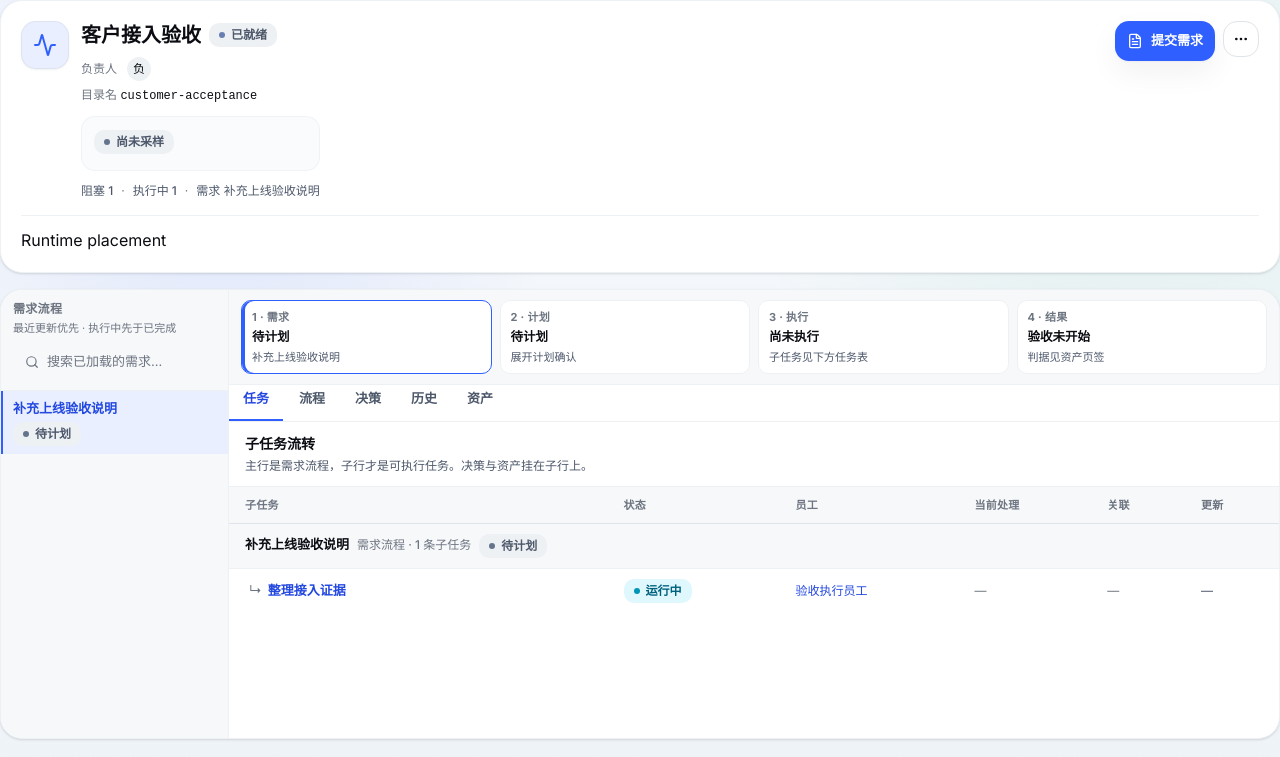
ProjectOperationalDetail › renders section nav with tasks default and navigable project context
The image size is (1280, 757).
Expected: the tab "任务" is shown, [229, 385, 283, 420]
Expected: the tab "流程" is shown, [285, 385, 339, 420]
Click the button named "负责人 负责人甲".
click(139, 69)  # box [125, 55, 153, 83]
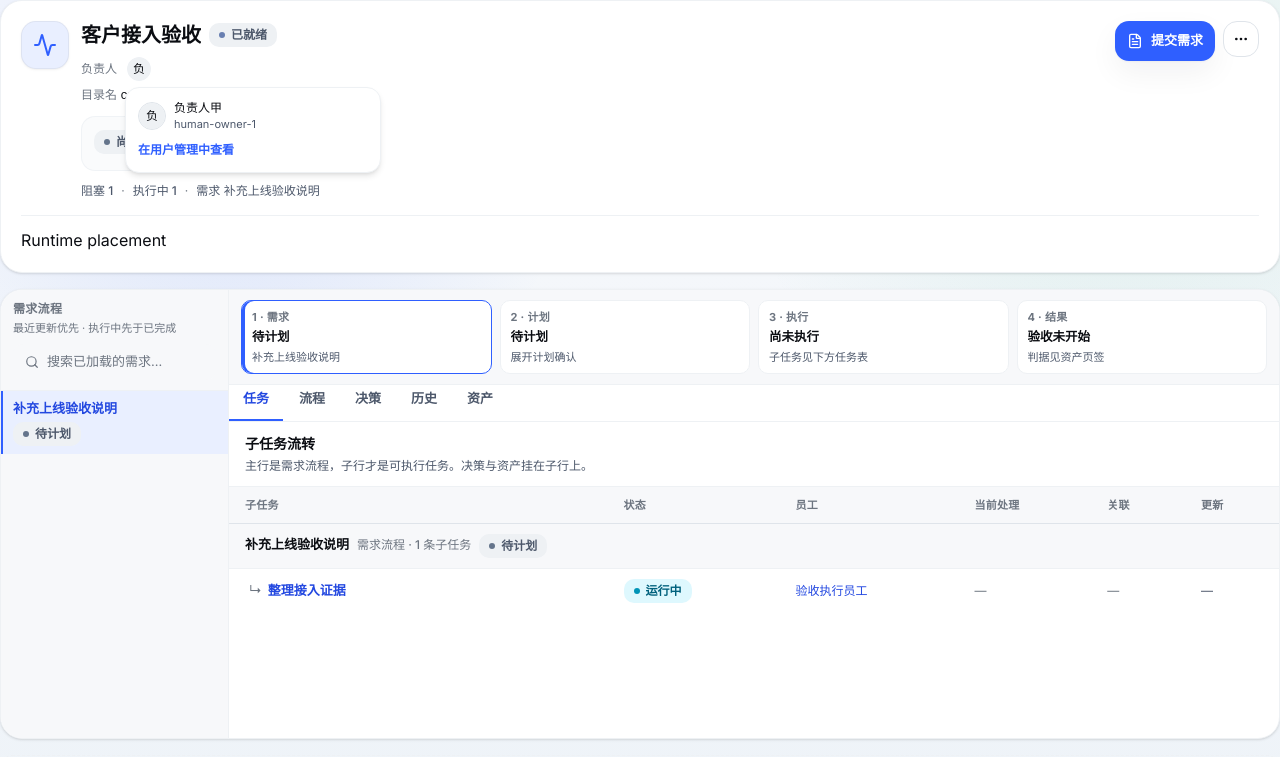
Result: the text "负责人甲" is shown at [174, 100, 222, 115]
